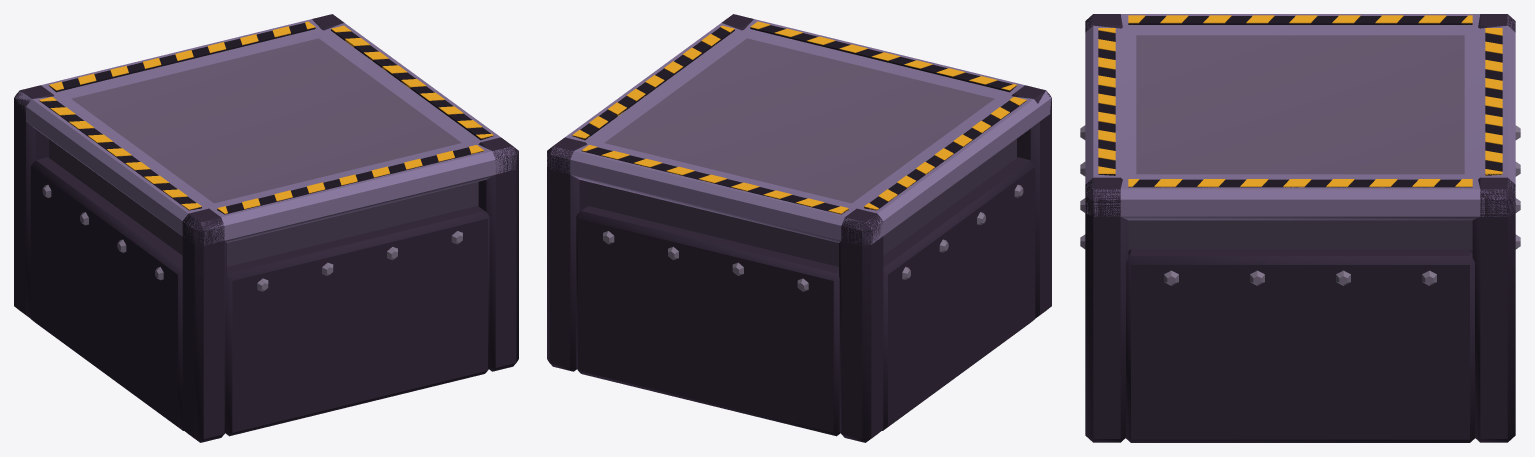
File: wall_cut__lower.glb
3 views of the same model, side by side, from view 1: azimuth 30°, elevation 25°; view 2: azimuth 150°, elevation 25°; view 3: azimuth 270°, elevation 25° (orthographic). The views are drawn at different scales.
Visible parts, largest first — view 1: wall_cut; view 2: wall_cut; view 3: wall_cut.
Boxes of the visible parts, x1=… form: wall_cut: x1=14, y1=14, x2=518, y2=442; wall_cut: x1=547, y1=14, x2=1051, y2=442; wall_cut: x1=1080, y1=14, x2=1520, y2=442.
Bounding box in the file's own units: 1.02 × 0.652 × 1.02.
